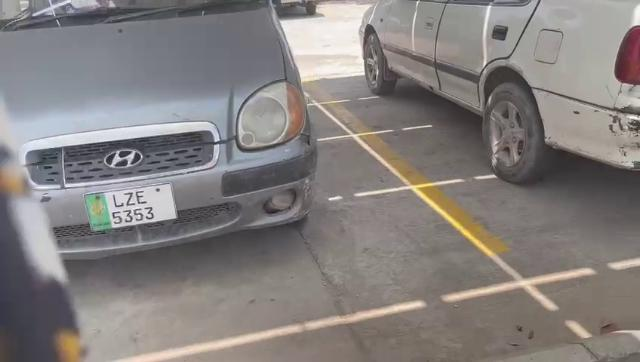plate: (80, 184, 180, 234)
